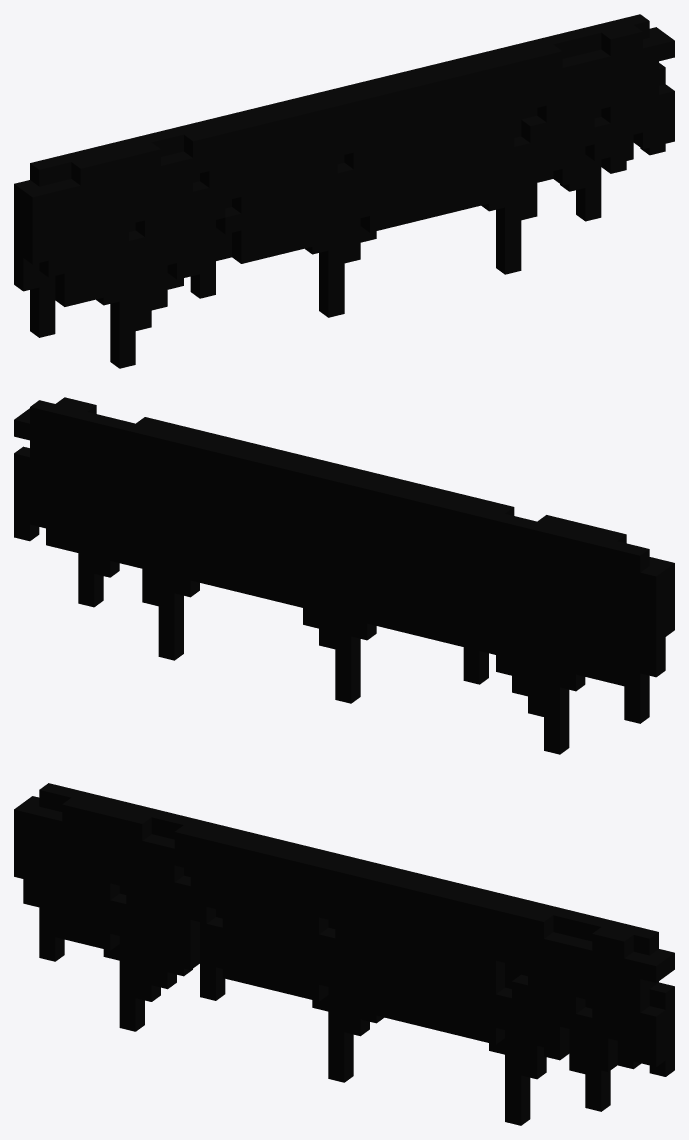
Rendered from Button_Flesh_Pressed.002.fbx.
3 renders of one model, top to bottom at view 1: azimuth 30°, elevation 25°; view 2: azimuth 150°, elevation 25°; view 3: azimuth 330°, elevation 25°, orthographic.
Visible parts, largest first — view 1: Button_Flesh_Pressed.002; view 2: Button_Flesh_Pressed.002; view 3: Button_Flesh_Pressed.002.
Boxes of the visible parts, x1,y1,x2,y2 form: Button_Flesh_Pressed.002: (14,14,674,368); Button_Flesh_Pressed.002: (14,397,674,754); Button_Flesh_Pressed.002: (14,783,674,1125).
Size of the model in its own units: 4 by 1.3 by 0.2.
